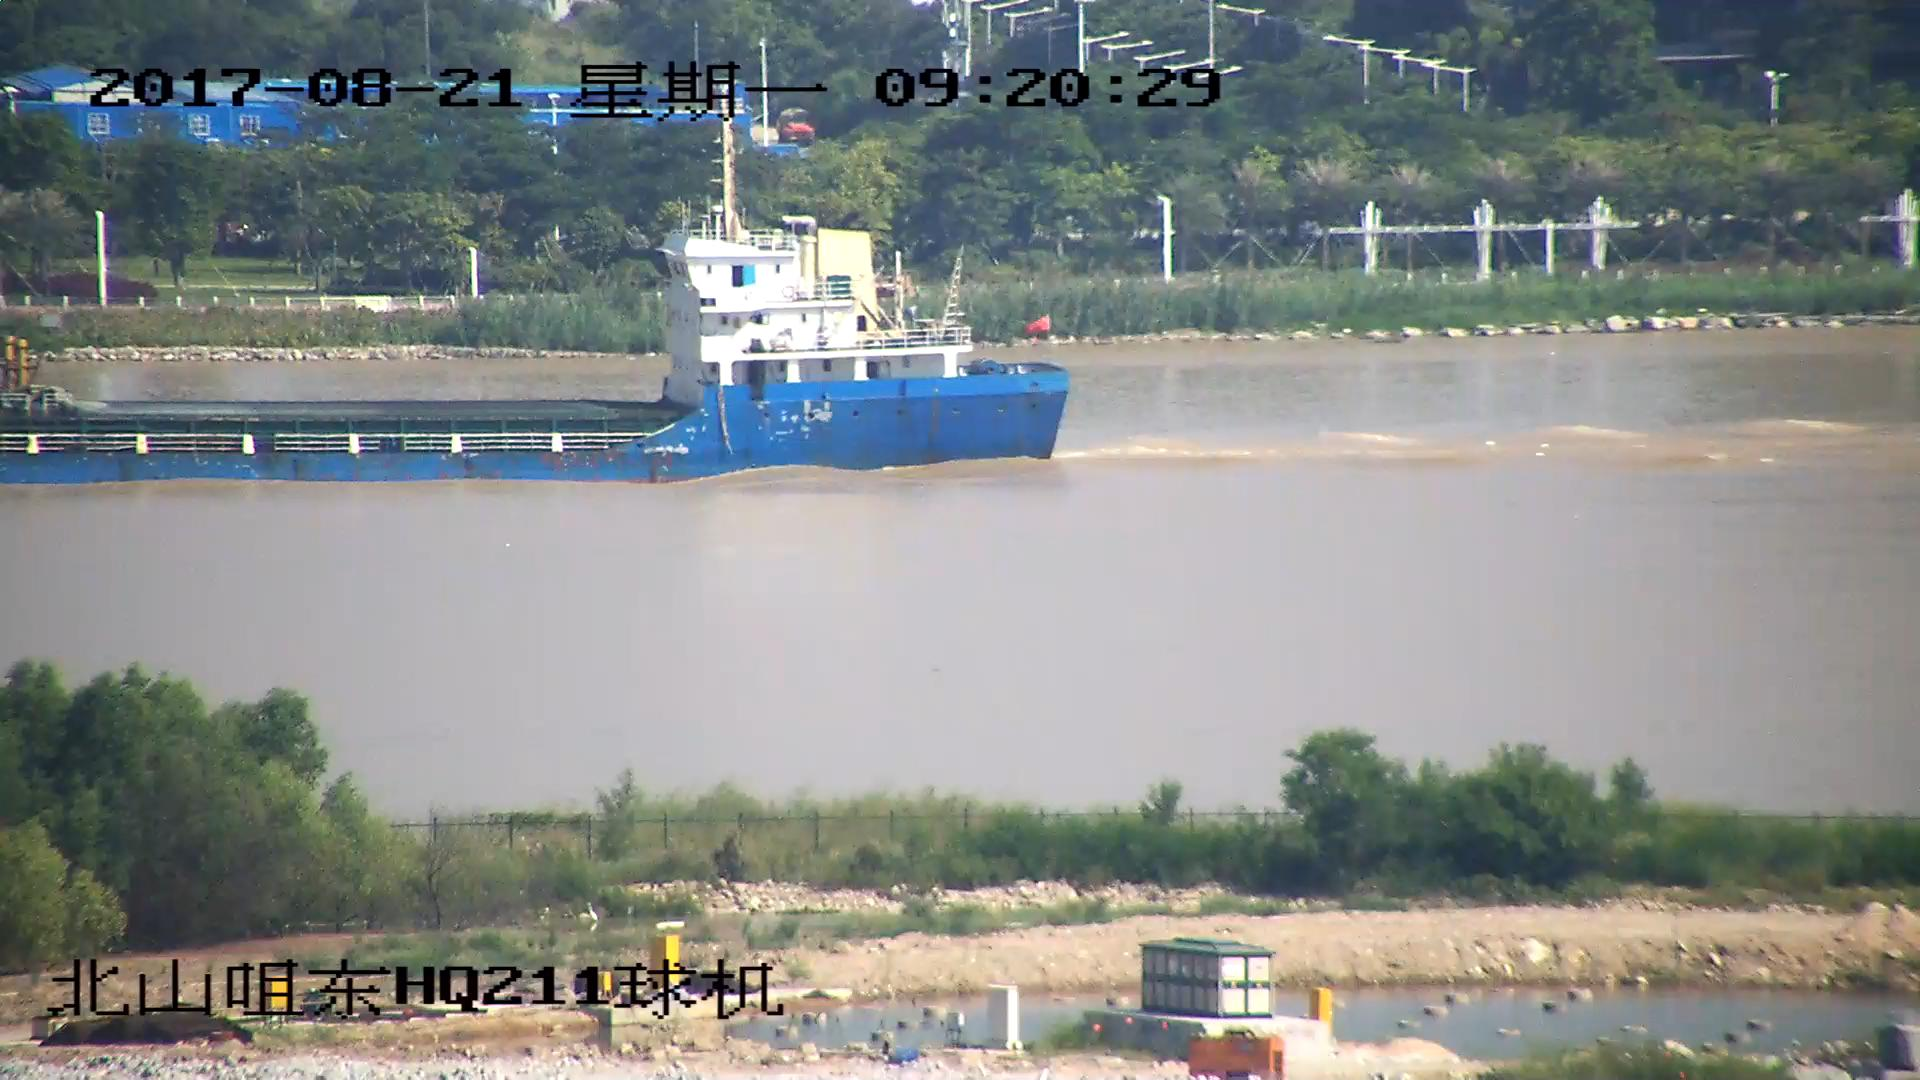general cargo ship: (1, 129, 1070, 477)
